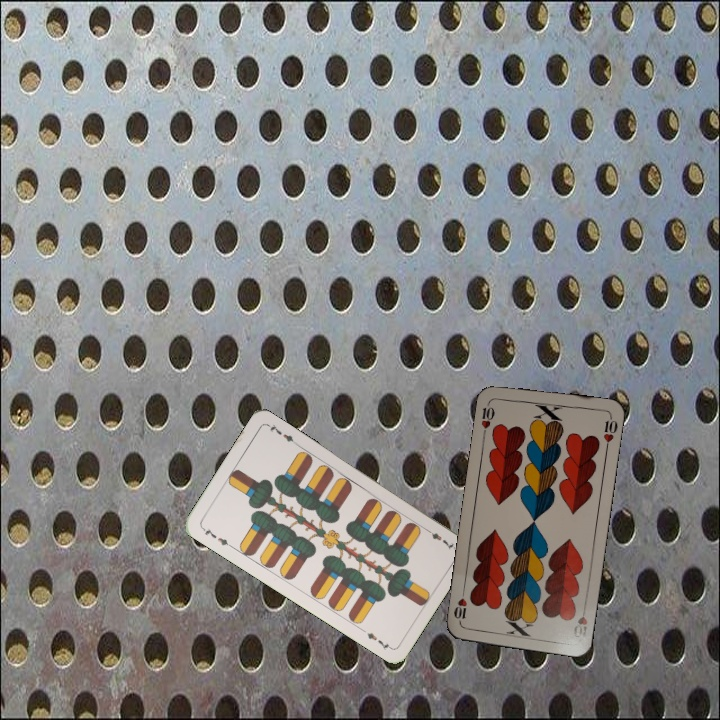E7: (421, 524, 457, 553), (198, 523, 234, 550)
H10: (569, 601, 590, 640), (477, 397, 497, 437)
